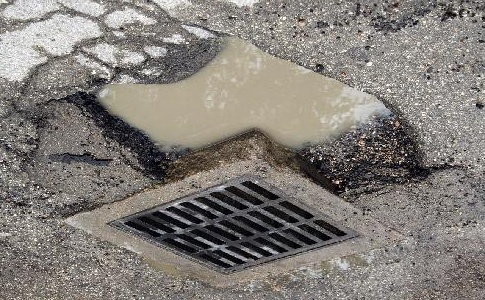pothole: (68, 33, 434, 200)
